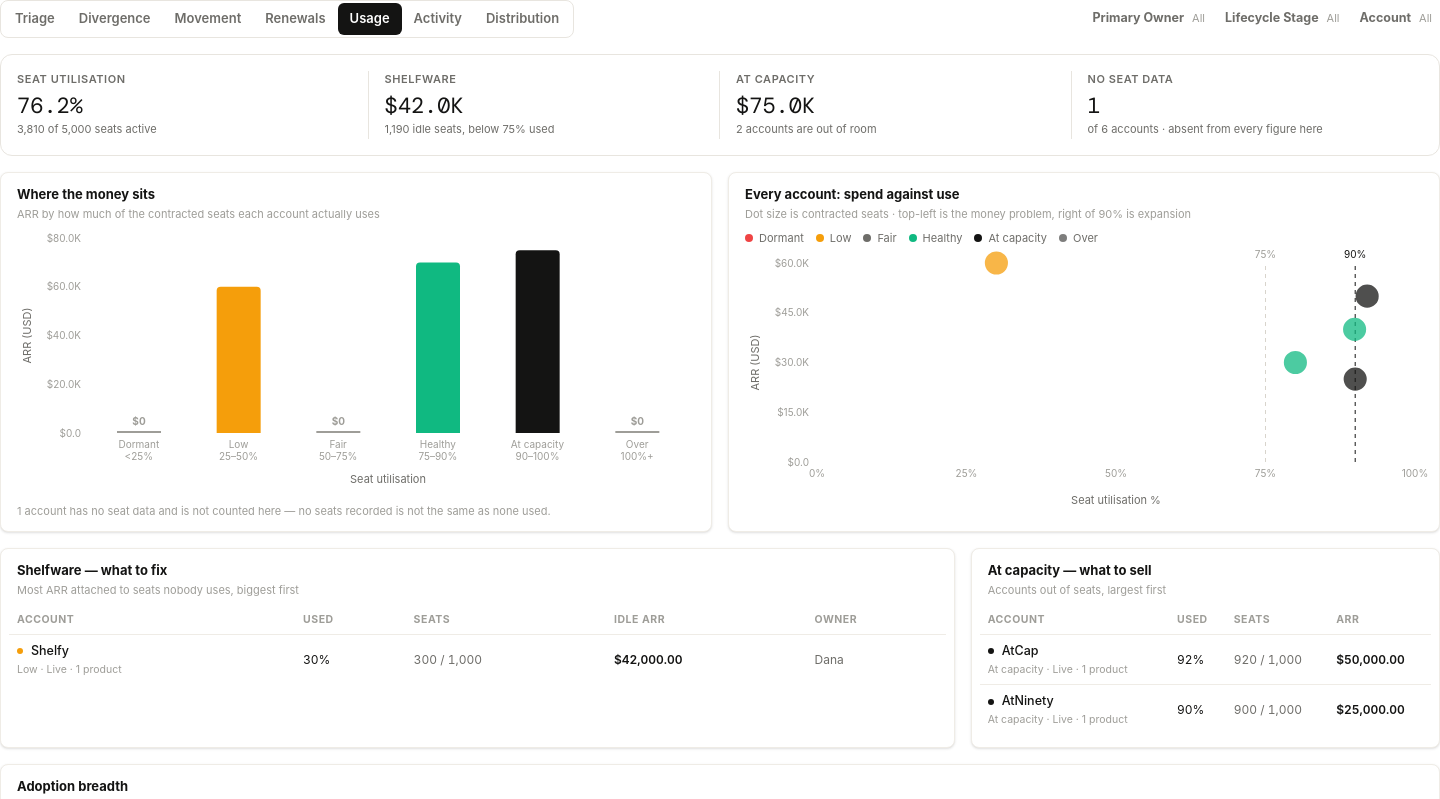
Test: Usage Overview drill › opens the seat-utilisation drill with every measured account
Click the button with aria-label "Seat utilisation 76.2%, show accounts". click: click(71, 79)
box: 13,67 -> 348,142
(page scrolled)
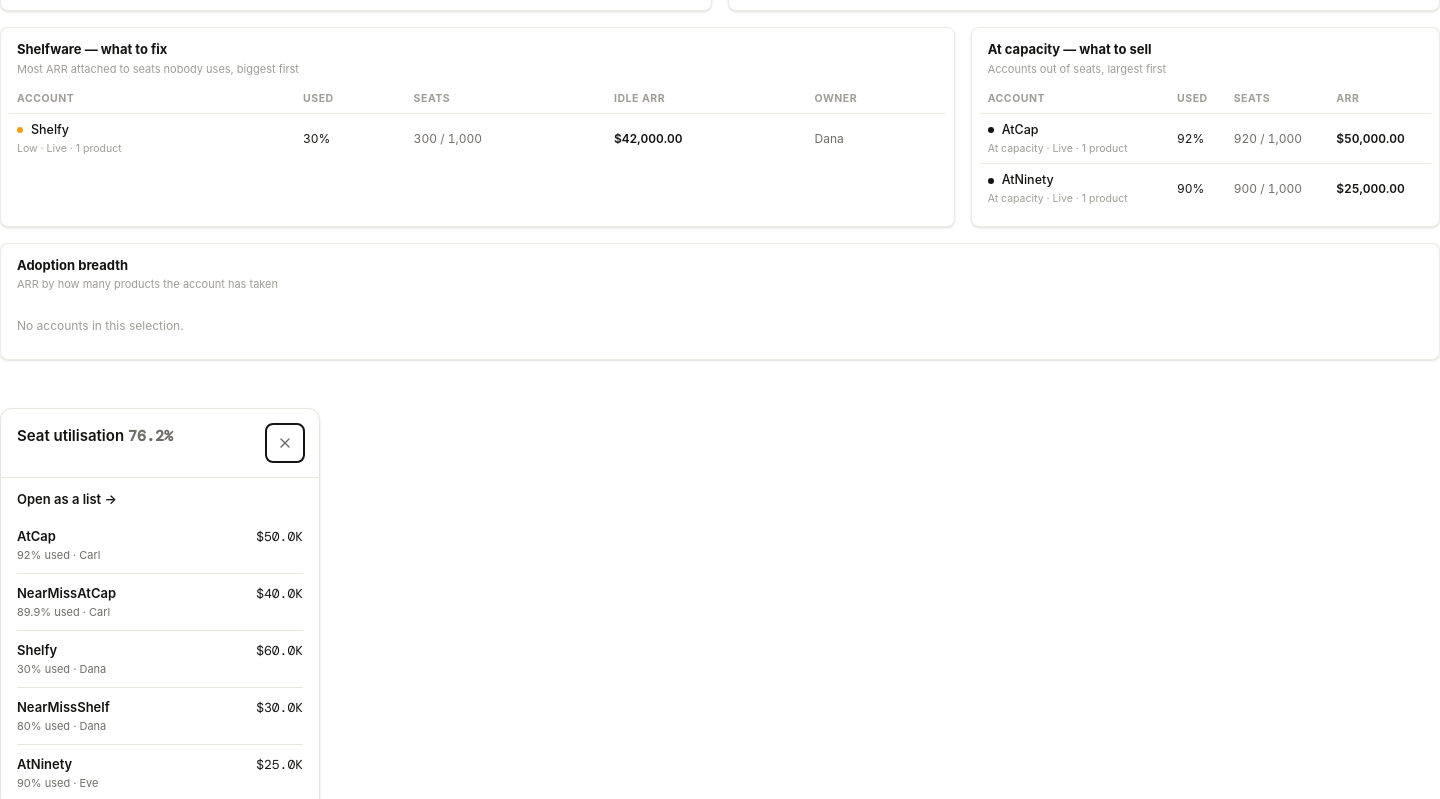
Now the link "AtCap" is shown, box 17,528 -> 56,544
Now the link "NearMissAtCap" is shown, box 17,584 -> 116,604
Now the link "Shelfy" is shown, box 17,642 -> 57,658
